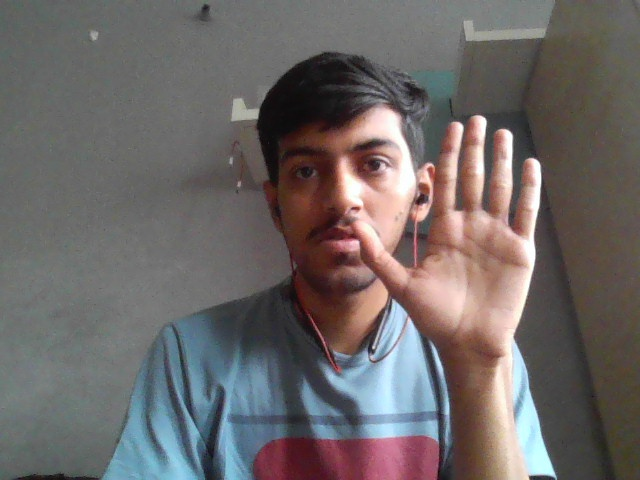Hello: (348, 115, 545, 355)
